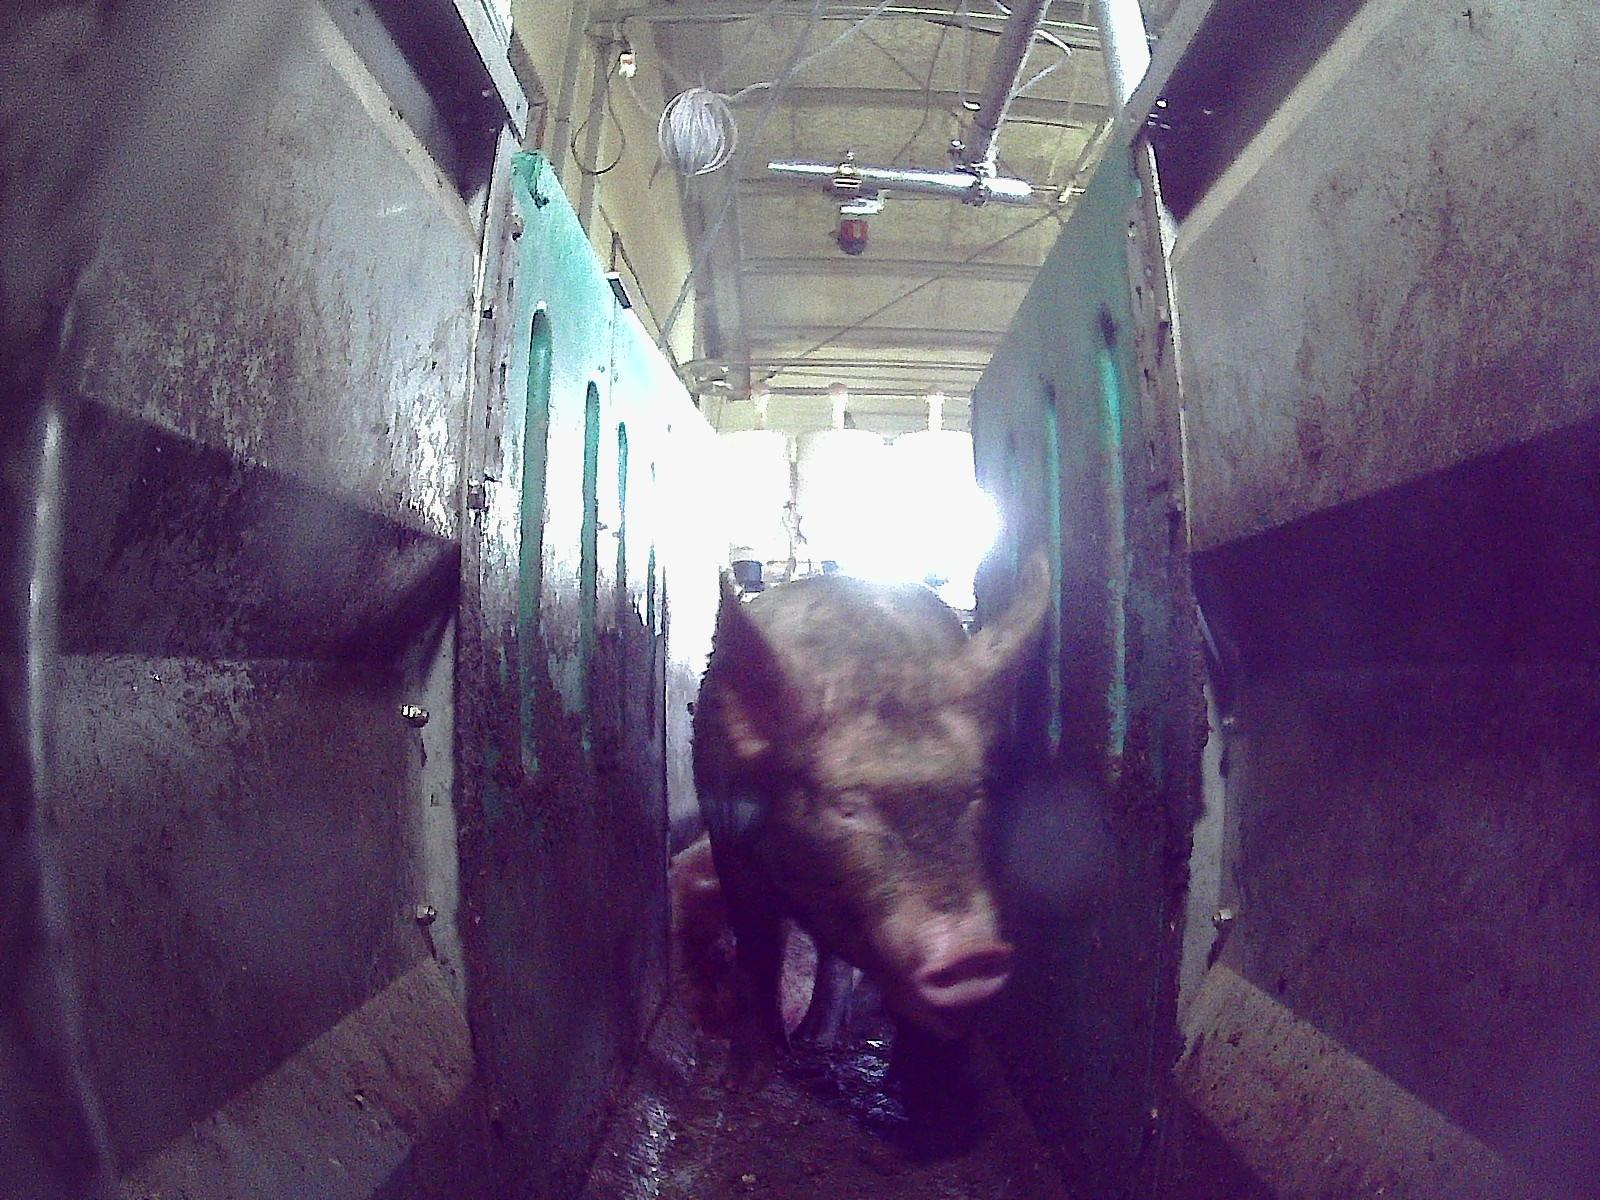Face: (759, 644, 1010, 1044)
